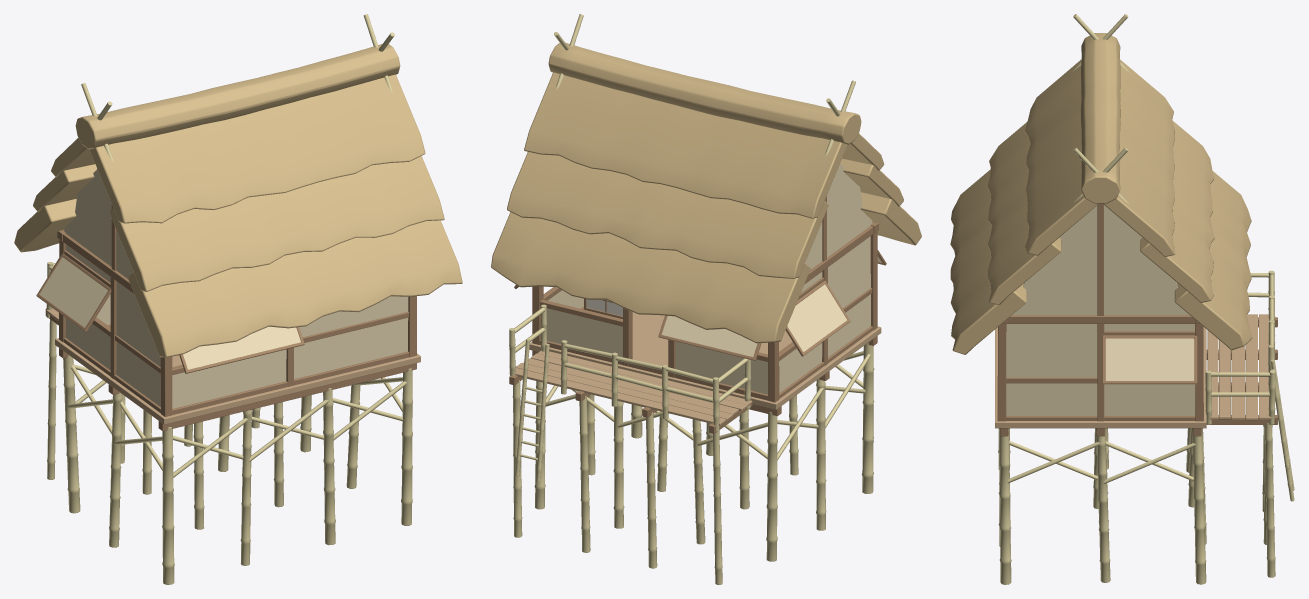
Rendered from house_water_32676.glb.
3 views of the same model, side by side, from view 1: azimuth 30°, elevation 25°; view 2: azimuth 150°, elevation 25°; view 3: azimuth 270°, elevation 25° (orthographic). The views are drawn at different scales.
Parts seen in each view (by area): view 1: water_32676_thatch, water_32676_sawali, water_32676_bamboo, water_32676_timber, water_32676_plank; view 2: water_32676_thatch, water_32676_bamboo, water_32676_sawali, water_32676_plank, water_32676_timber; view 3: water_32676_thatch, water_32676_sawali, water_32676_bamboo, water_32676_timber, water_32676_plank.
Boxes of the visible parts, box(x1,y1,x2,y2) form: water_32676_thatch: box(14, 44, 462, 357); water_32676_sawali: box(39, 168, 408, 408); water_32676_bamboo: box(46, 14, 412, 584); water_32676_timber: box(36, 204, 416, 431); water_32676_plank: box(46, 308, 420, 424); water_32676_thatch: box(491, 42, 921, 343); water_32676_bamboo: box(509, 14, 874, 584); water_32676_sawali: box(546, 163, 881, 394); water_32676_plank: box(509, 312, 881, 425); water_32676_timber: box(509, 196, 886, 433); water_32676_thatch: box(950, 33, 1252, 354); water_32676_sawali: box(1006, 205, 1195, 415); water_32676_bamboo: box(998, 14, 1294, 584); water_32676_timber: box(997, 203, 1277, 436); water_32676_plank: box(995, 314, 1271, 428).
Size of the model in its own units: 7.23 by 10.39 by 7.28.
